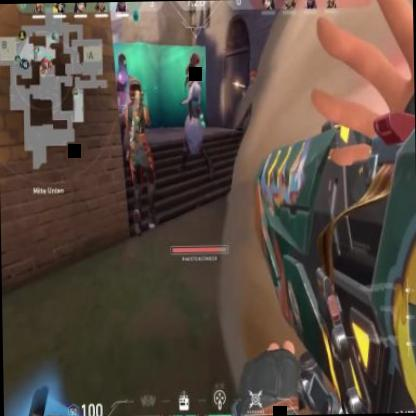enemy: (121, 76, 158, 233), (178, 51, 212, 172), (240, 70, 269, 175), (113, 48, 132, 147)
enemy_head: (128, 78, 142, 103), (184, 63, 196, 82), (118, 52, 127, 72), (249, 70, 256, 84)
